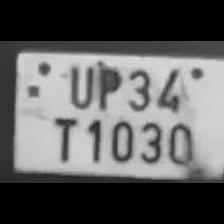0: (164, 116, 196, 166), (105, 114, 133, 164)
1: (78, 113, 104, 165)
3: (122, 62, 153, 110), (135, 116, 163, 164)
4: (151, 64, 187, 114)
P: (92, 62, 122, 110)
T: (47, 111, 81, 165)
U: (62, 62, 94, 108)
